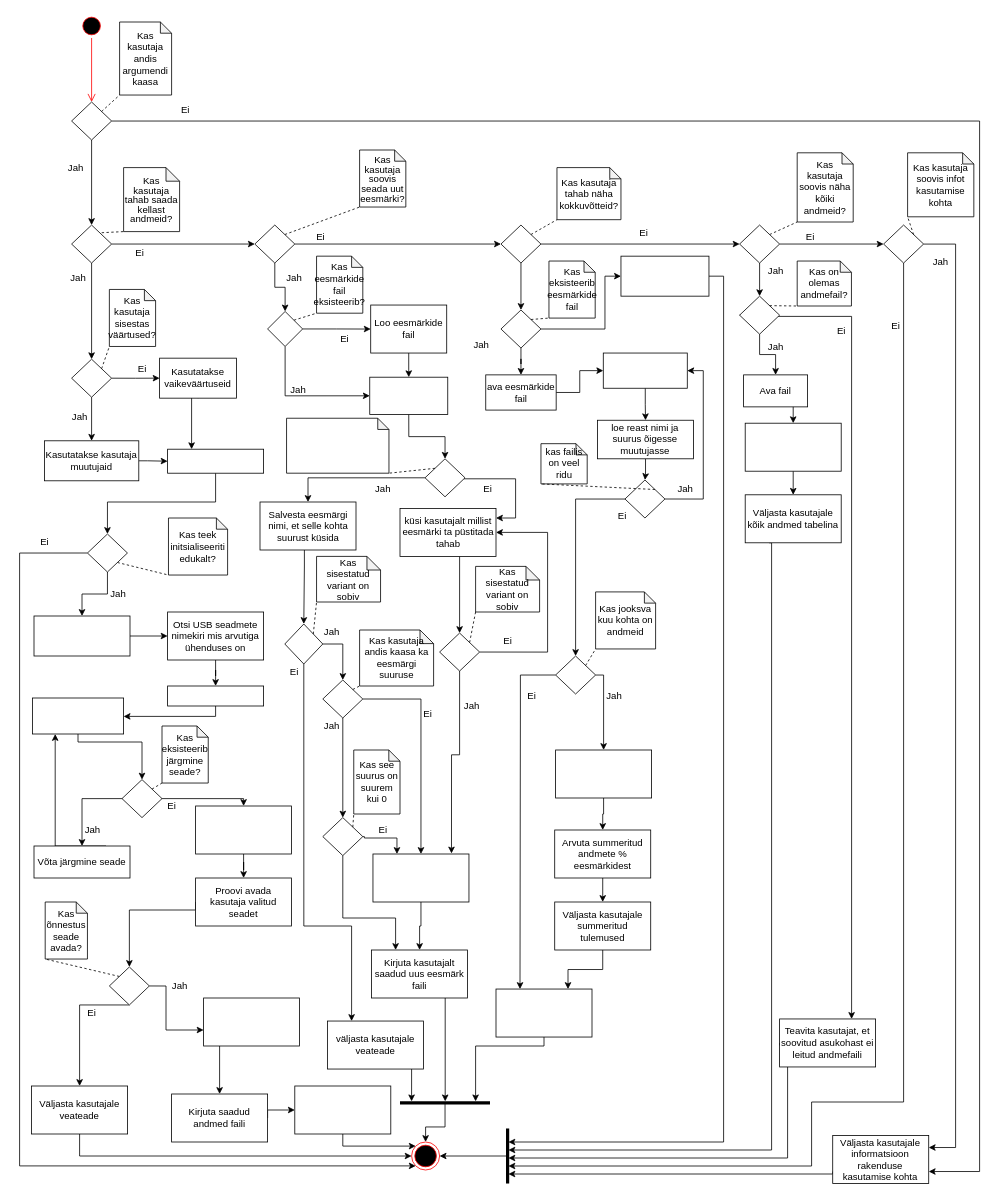
The diagram is 1000 pixels wide and 1199 high, and some of its shapes have lost their labels. Here are the shapes that lost their labels. From the top down, the box of each, then its label:
(620, 255, 709, 296): väljasta veateade, et eesmärkide faili ei ole olemas
(602, 352, 687, 388): Loe failist rida
(369, 376, 448, 414): ava eesmärkide fail kirjutamiseks
(167, 448, 264, 473): Initsialiseeritakse teek
(286, 417, 389, 473): Kas kasutaja andis kaasa eesmärgi võtmega ka eesmärgi nime
(744, 422, 841, 471): Loe sisse failist kõik andmed
(33, 615, 130, 656): Väljasta kasutajale info rakenduse kohta
(32, 697, 124, 734): Väljasta seadme kohta informatsiooni
(167, 685, 264, 706): Võta nimekirjast seade
(555, 749, 652, 798): Liida kokku kõik selle kuu sees olevate andmete väljad, kus on eesmärk seatud
(195, 805, 292, 854): Vabasta nimekiri leitud seadmetest
(372, 853, 469, 902): Küsi kasutajalt eesmärgi suurust
(203, 997, 300, 1046): Tõmba kellast andmed
(495, 988, 592, 1037): Väljasta kasutajale eesmärgid
(294, 1085, 391, 1134): Anna kasutajale informatsiooni operatsiooni õnnestumise kohta
